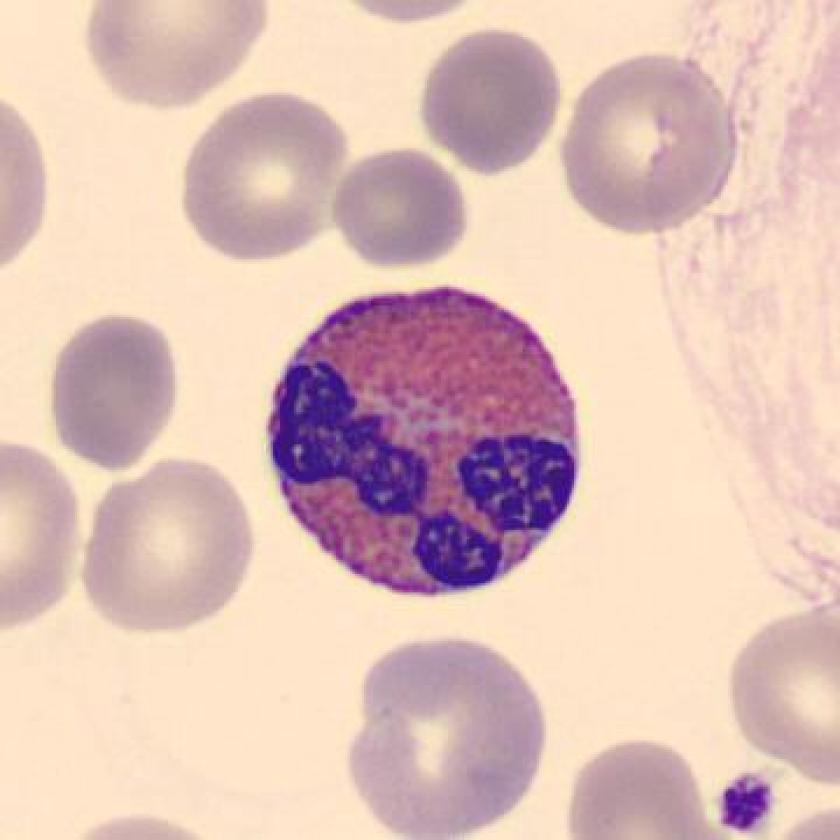eosinophil: (260, 277, 594, 608)
